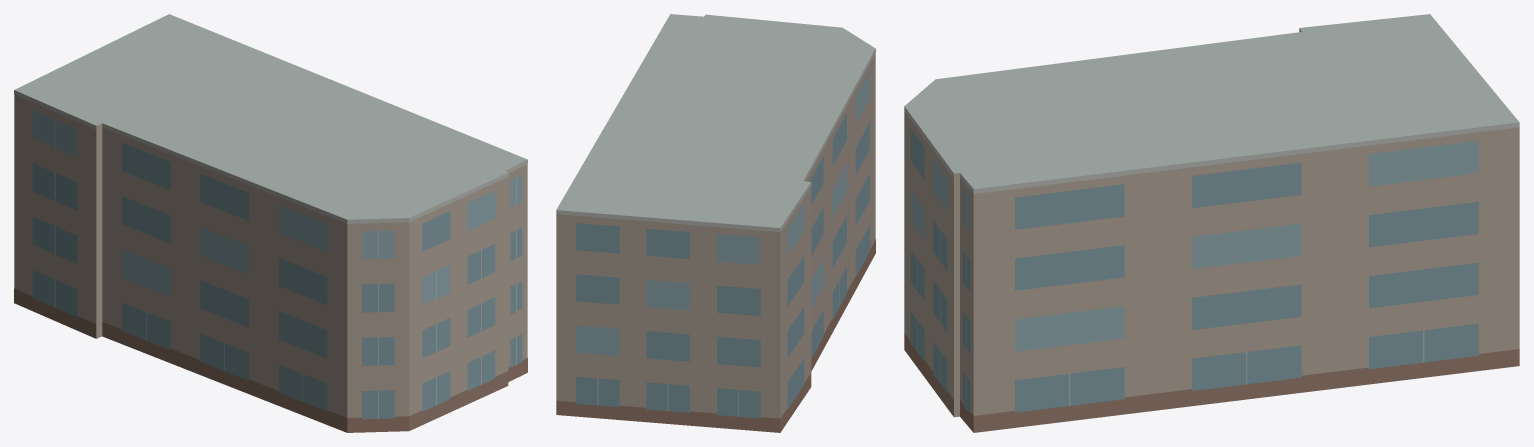
File: survey-upis-32620036.glb
The picture shows the model from 3 angles, left to right: view 1: azimuth 30°, elevation 25°; view 2: azimuth 150°, elevation 25°; view 3: azimuth 270°, elevation 25°; orthographic projection. The views are drawn at different scales.
Parts seen in each view (by area): view 1: survey-upis-32620036.tmp; view 2: survey-upis-32620036.tmp; view 3: survey-upis-32620036.tmp.
Boxes of the visible parts, x1,y1,x2,y2 form: survey-upis-32620036.tmp: [14, 14, 527, 432]; survey-upis-32620036.tmp: [556, 14, 875, 432]; survey-upis-32620036.tmp: [904, 14, 1519, 432].
Bounding box in the file's own units: 18.82 × 12.2 × 27.92.
